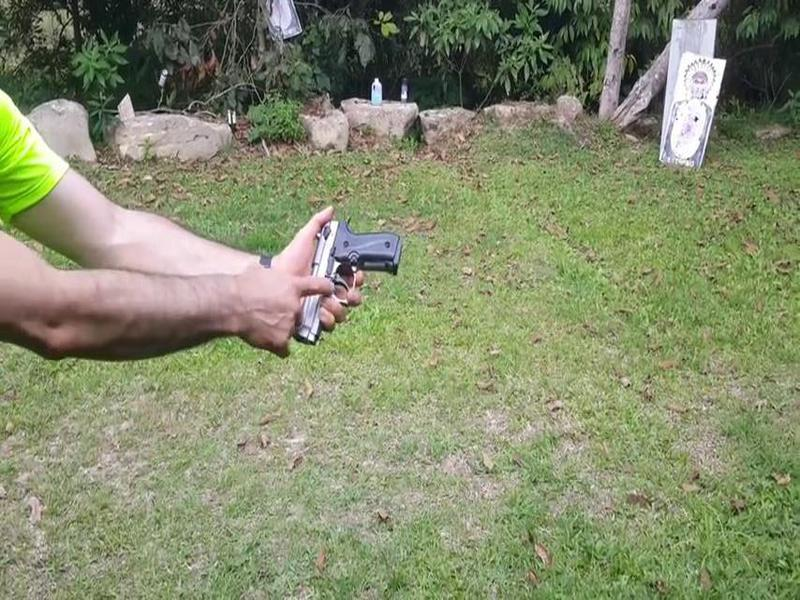Pistola: (287, 209, 411, 357)
